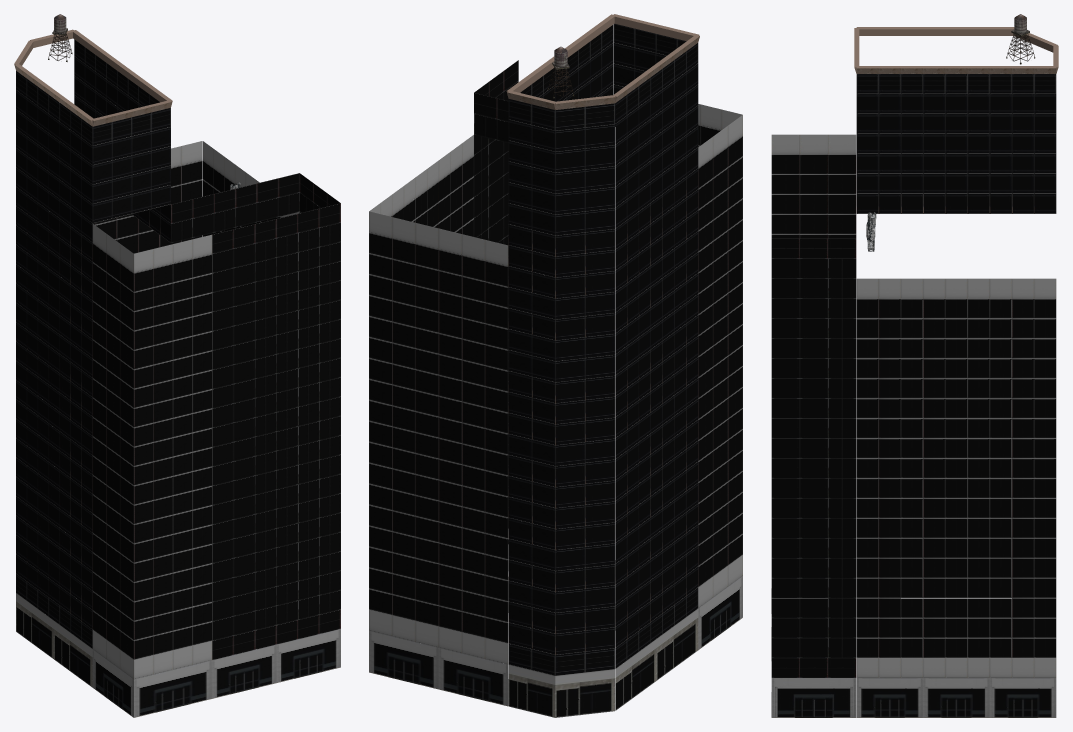
Rendered from nycity_19.gltf.
3 views of the same model, side by side, from view 1: azimuth 30°, elevation 25°; view 2: azimuth 150°, elevation 25°; view 3: azimuth 270°, elevation 25° (orthographic). The views are drawn at different scales.
Parts seen in each view (by area): view 1: nycity_19; view 2: nycity_19; view 3: nycity_19.
Boxes of the visible parts, x1,y1,x2,y2 form: nycity_19: (14, 14, 340, 717); nycity_19: (369, 14, 742, 717); nycity_19: (771, 14, 1058, 717).
Bounding box in the file's own units: 33.88 × 93.66 × 39.1.
Materials: 6 (5 with a texture image).
